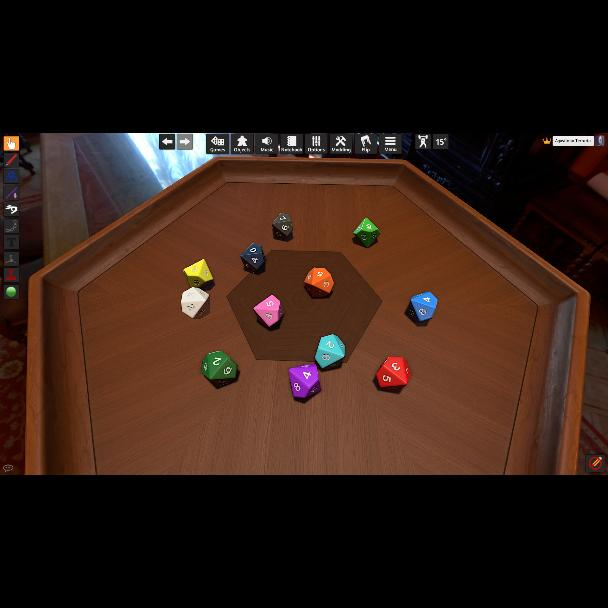d10: (202, 350, 238, 386), (376, 355, 408, 391), (288, 364, 320, 400), (253, 294, 284, 328), (315, 335, 345, 369), (180, 287, 210, 319), (305, 268, 333, 298), (184, 260, 212, 288), (353, 218, 379, 248), (409, 292, 435, 322), (240, 244, 264, 274), (272, 212, 292, 240)
